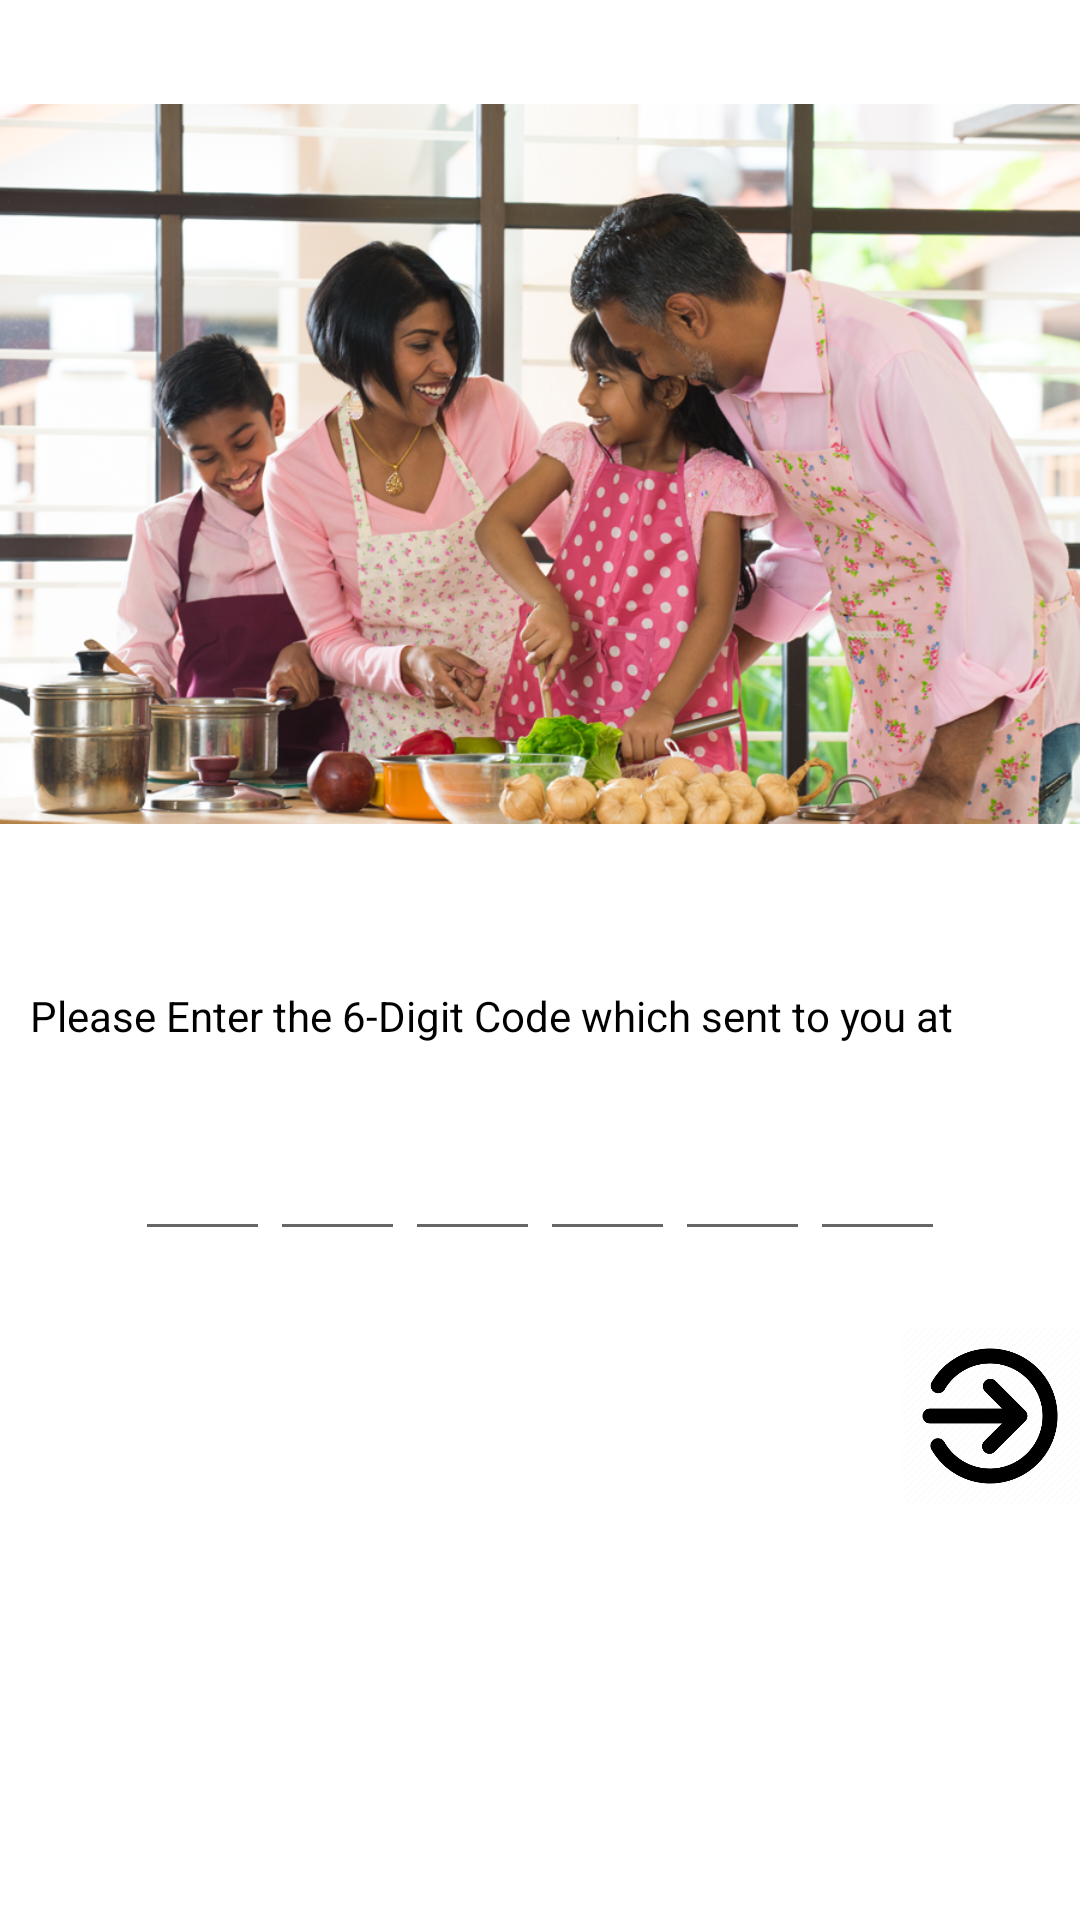

Screen size 1080×1920. Icon name, then its center in pixels as [x,y]:
rightarrow: [990,1416]
